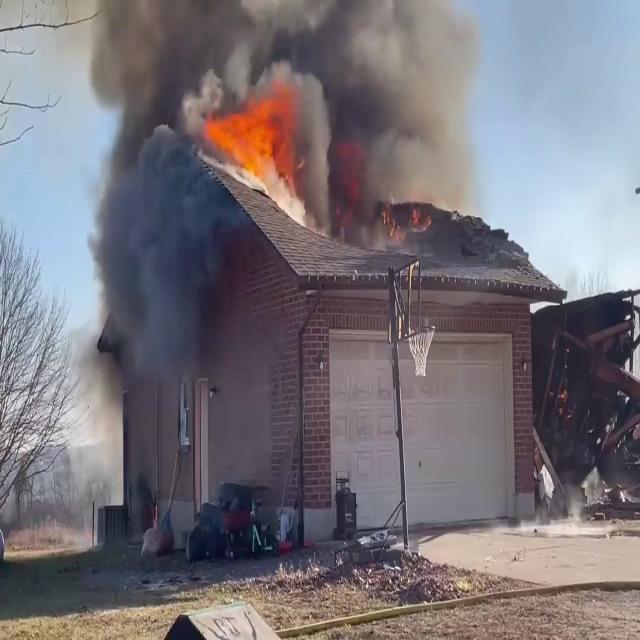Fire: (206, 92, 312, 216)
Smoke: (77, 0, 244, 368), (286, 0, 494, 231)
